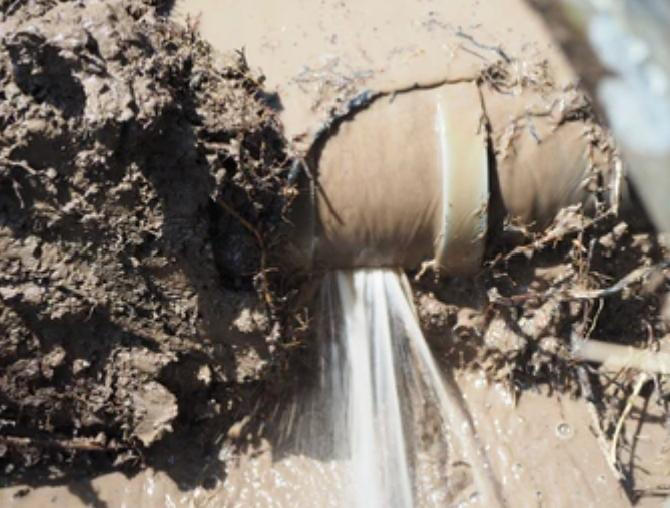pipe burst: (318, 260, 495, 508)
water accumulation: (0, 348, 670, 508), (160, 0, 582, 148)
